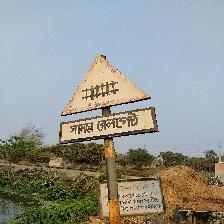Rail-crossing: (59, 54, 157, 144)
